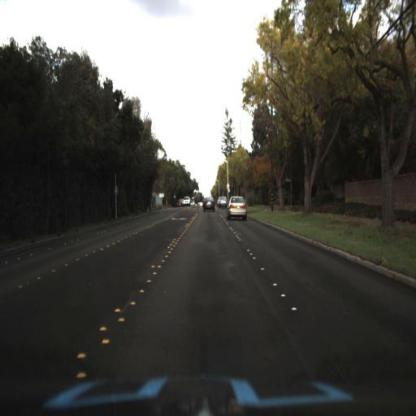car: (226, 192, 248, 222), (202, 194, 215, 215), (216, 191, 230, 210), (217, 196, 227, 212)
